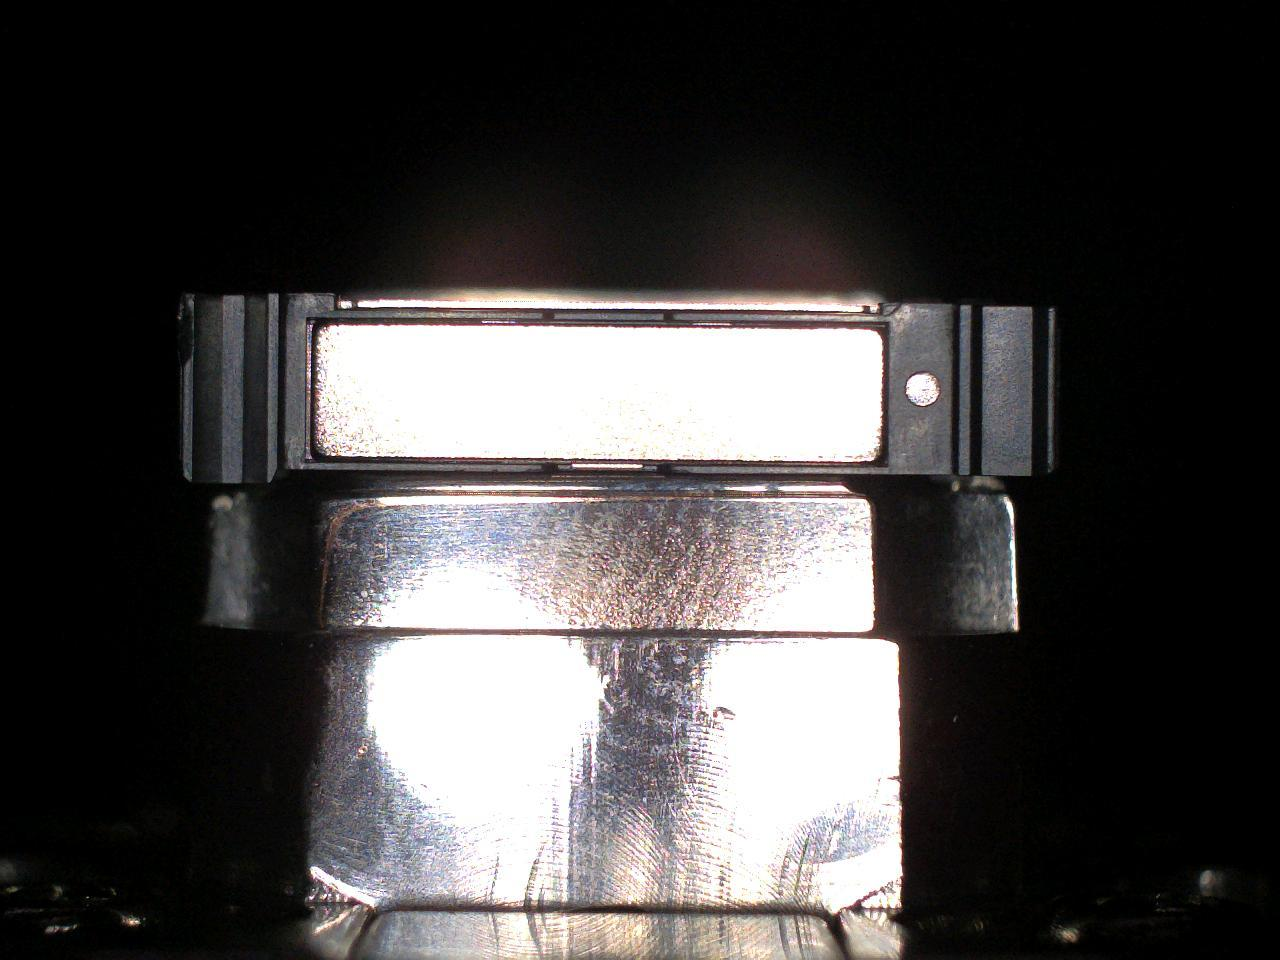frame: (180, 293, 1056, 485)
gap: (674, 320, 875, 330), (315, 457, 543, 465), (673, 460, 880, 468), (315, 319, 540, 326), (554, 320, 663, 327), (558, 459, 658, 465)
magnetic: (315, 326, 882, 461)
